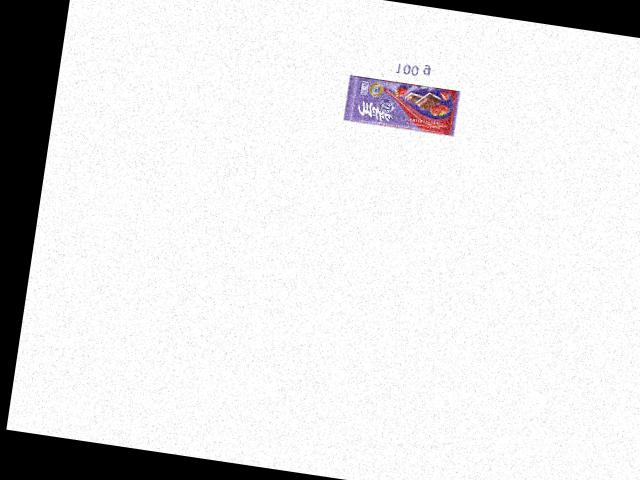chocolate: (343, 69, 462, 136)
